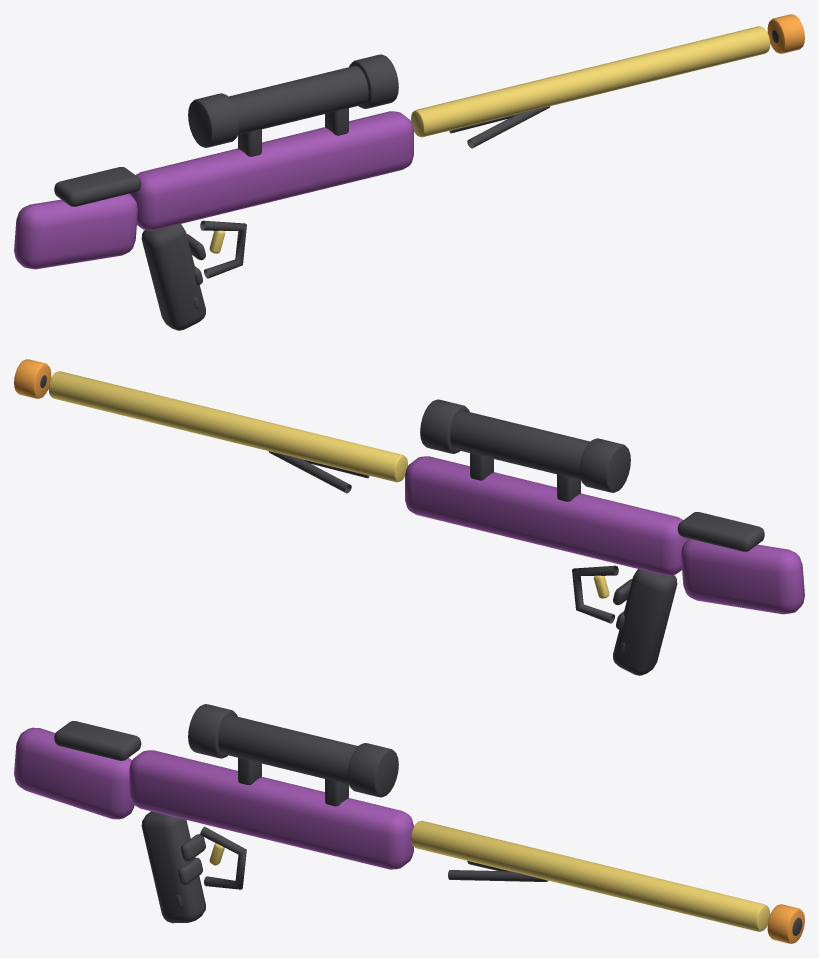
The model's file is long.glb.
3 views of the same model, one above another, from view 1: azimuth 30°, elevation 25°; view 2: azimuth 150°, elevation 25°; view 3: azimuth 330°, elevation 25° (orthographic).
Parts seen in each view (by area): view 1: body, barrel, stock, scope, handle, bell-1, cheek, bell1, muzzle, guard, bipod1; view 2: body, barrel, stock, scope, handle, bell-1, cheek, bell1, muzzle, guard, bipod-1; view 3: body, barrel, stock, scope, handle, bell1, cheek, bell-1, muzzle, guard, bipod1, ring-1 (+2 smaller).
Boxes of the visible parts, x1=… form: body: x1=130, y1=111, x2=413, y2=230; barrel: x1=411, y1=26, x2=770, y2=137; stock: x1=14, y1=193, x2=137, y2=269; scope: x1=228, y1=65, x2=368, y2=134; handle: x1=141, y1=224, x2=205, y2=330; bell-1: x1=188, y1=93, x2=239, y2=147; cheek: x1=54, y1=167, x2=141, y2=206; bell1: x1=349, y1=54, x2=398, y2=108; muzzle: x1=767, y1=14, x2=804, y2=53; guard: x1=200, y1=220, x2=246, y2=278; bipod1: x1=467, y1=106, x2=550, y2=148; body: x1=405, y1=456, x2=688, y2=575; barrel: x1=48, y1=371, x2=407, y2=482; stock: x1=681, y1=538, x2=804, y2=614; scope: x1=450, y1=410, x2=590, y2=479; handle: x1=613, y1=569, x2=677, y2=675; bell-1: x1=579, y1=438, x2=630, y2=492; cheek: x1=677, y1=512, x2=764, y2=551; bell1: x1=420, y1=399, x2=469, y2=453; muzzle: x1=14, y1=359, x2=51, y2=398; guard: x1=572, y1=565, x2=618, y2=623; bipod-1: x1=268, y1=451, x2=351, y2=493; body: x1=129, y1=750, x2=413, y2=869; barrel: x1=411, y1=820, x2=770, y2=931; stock: x1=14, y1=727, x2=134, y2=819; scope: x1=218, y1=715, x2=357, y2=784; handle: x1=141, y1=811, x2=205, y2=923; bell1: x1=347, y1=743, x2=398, y2=797; cheek: x1=54, y1=721, x2=141, y2=760; bell-1: x1=188, y1=704, x2=237, y2=758; muzzle: x1=767, y1=904, x2=804, y2=943; guard: x1=200, y1=826, x2=246, y2=889; bipod1: x1=448, y1=870, x2=547, y2=881; ring-1: x1=238, y1=757, x2=261, y2=784.
Bounding box in the file's own units: 1.08 × 0.2905 × 0.0617.
